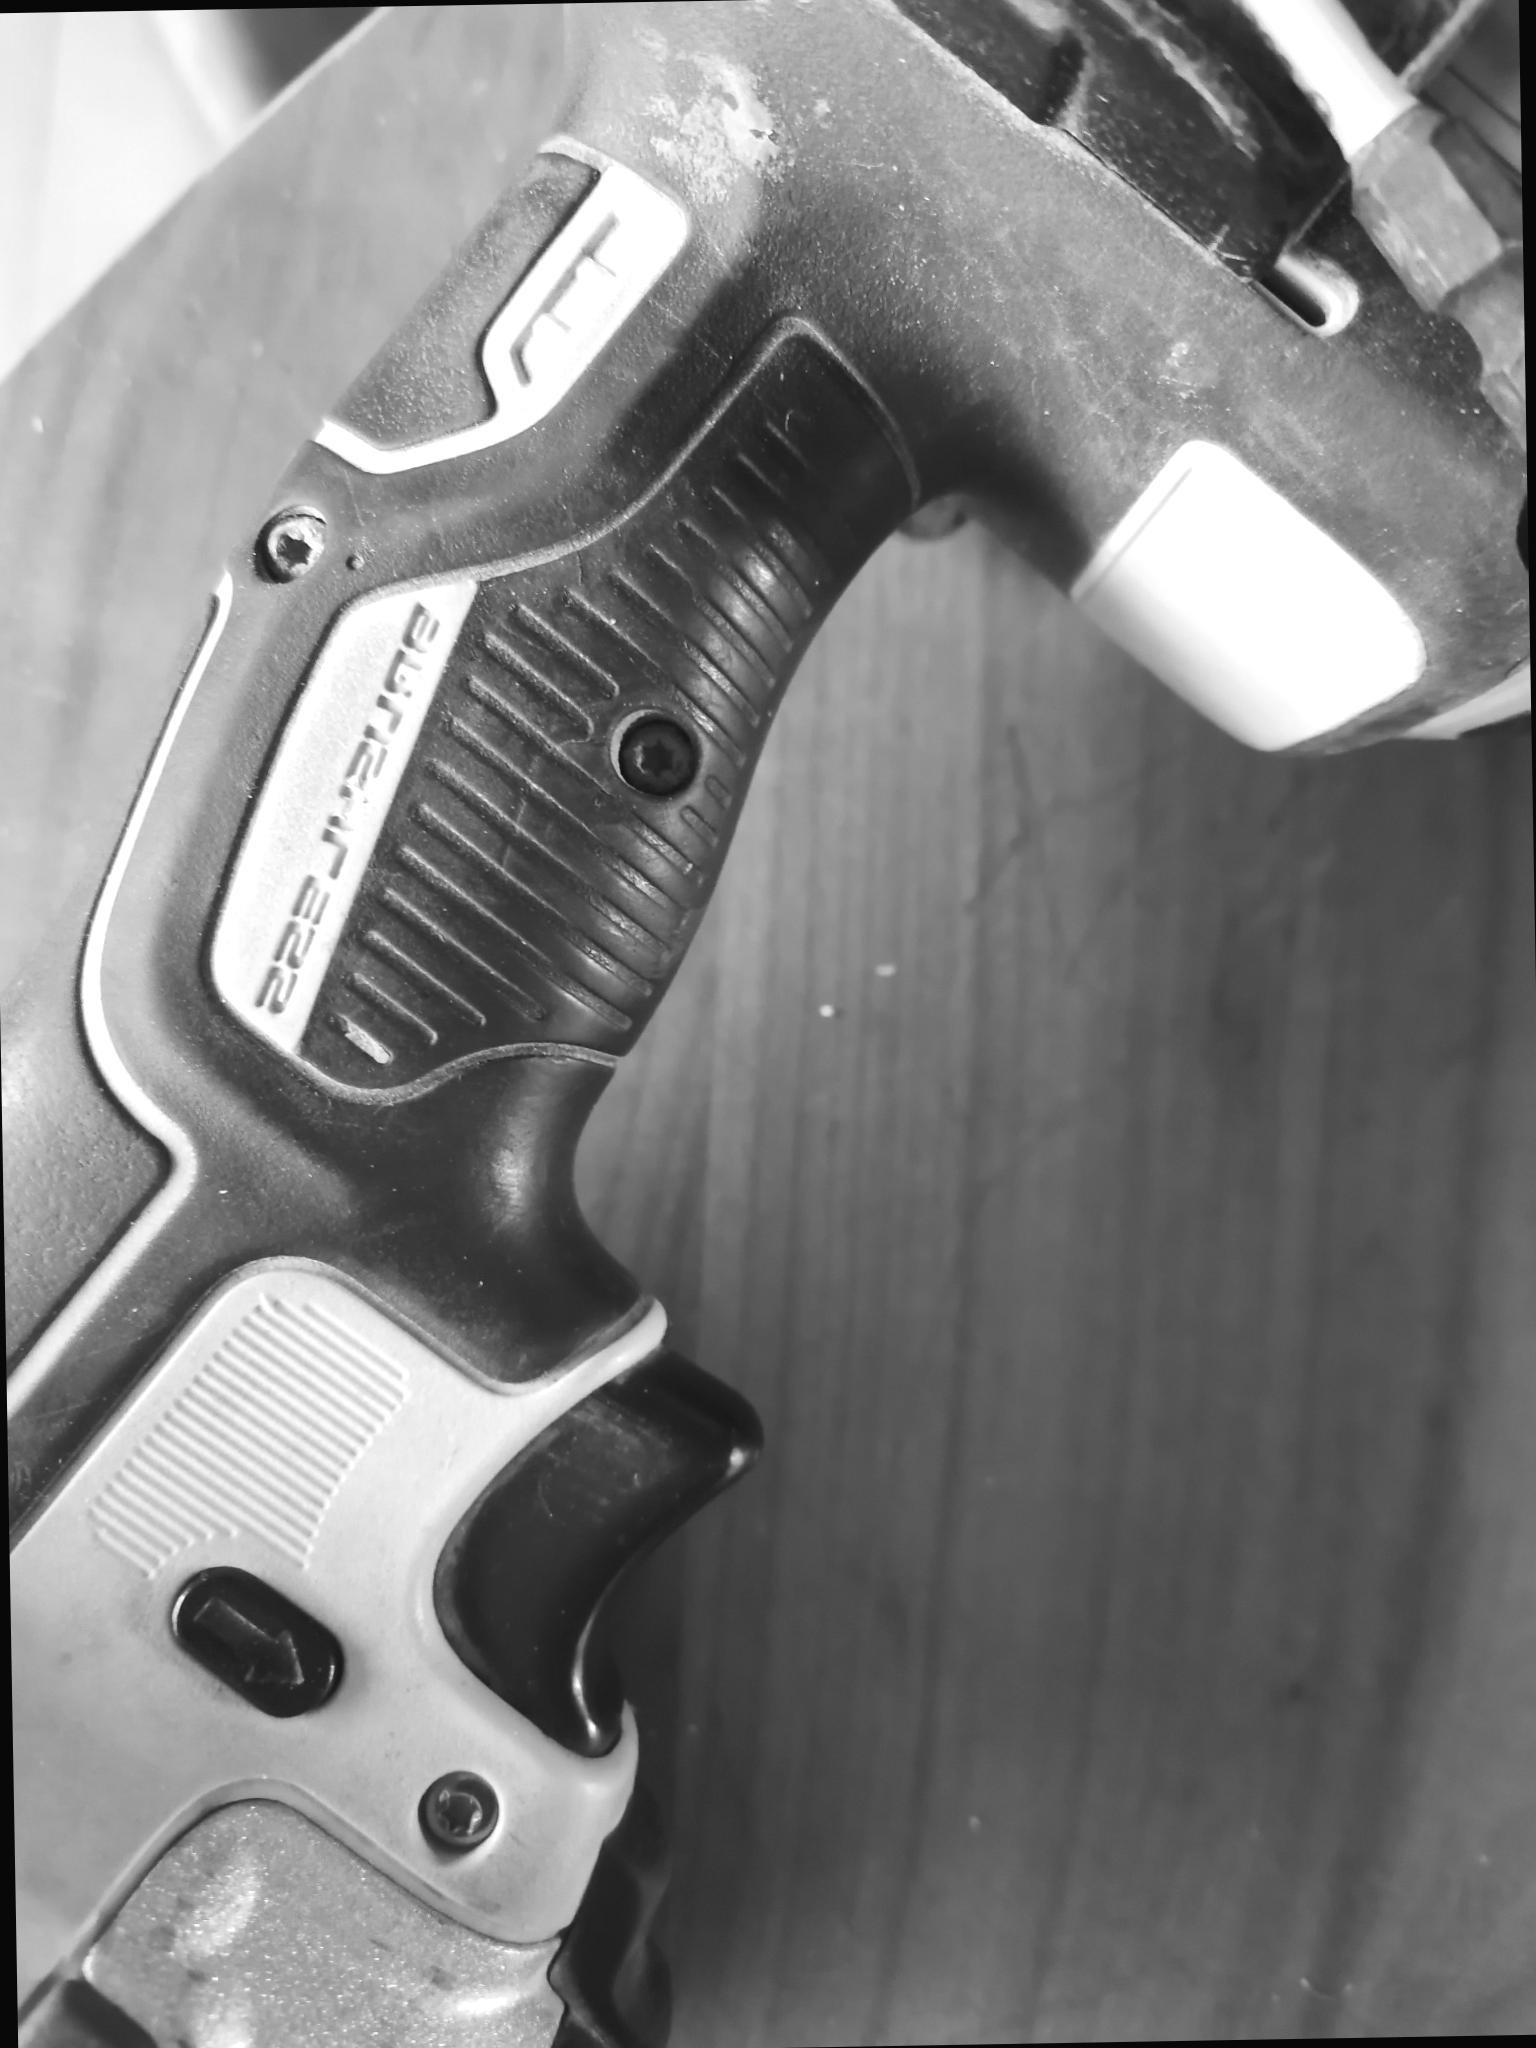screw: (603, 705, 710, 803), (242, 500, 344, 592)
